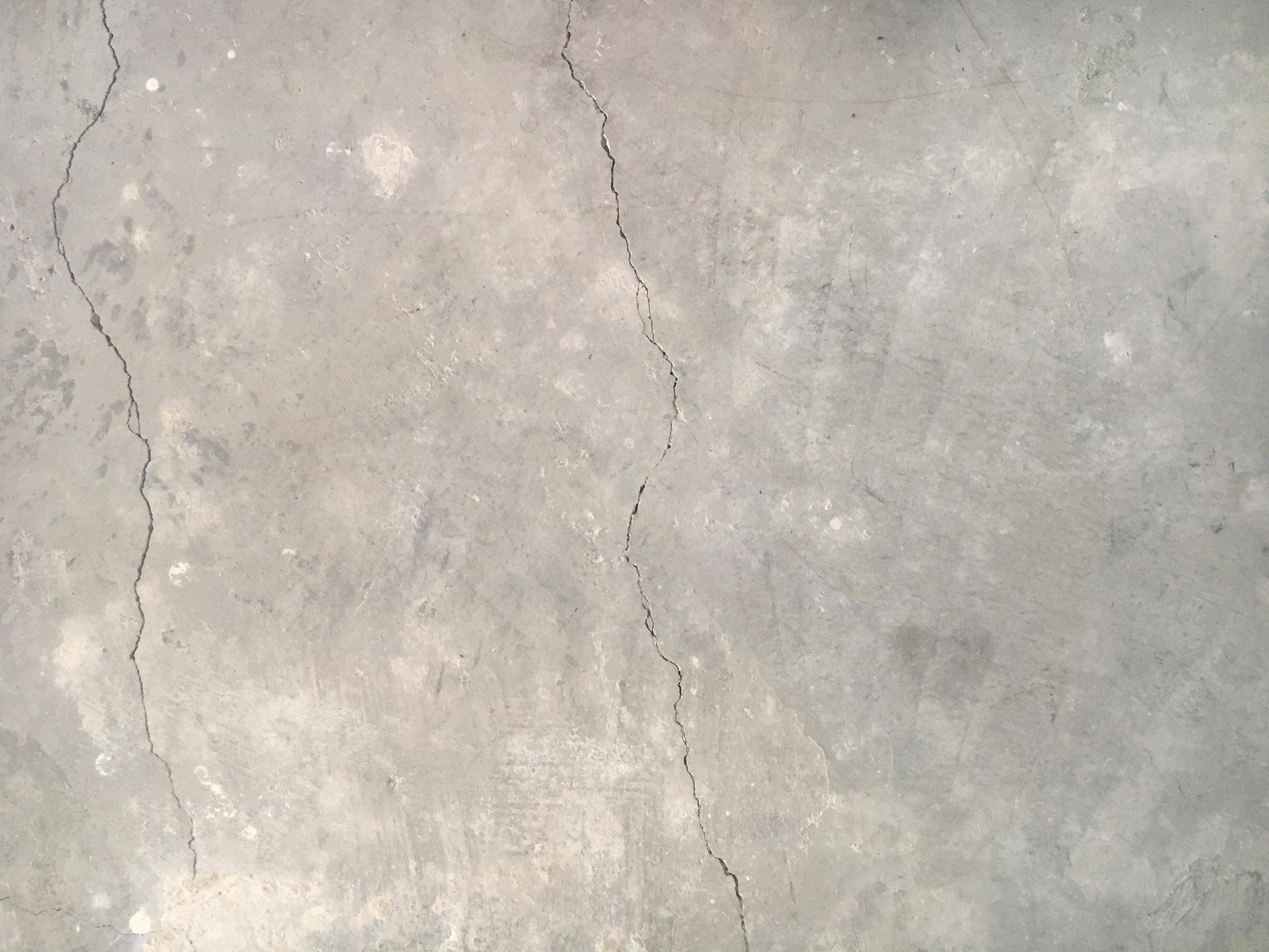Vertical Crack: (556, 2, 753, 949), (48, 2, 200, 878)
